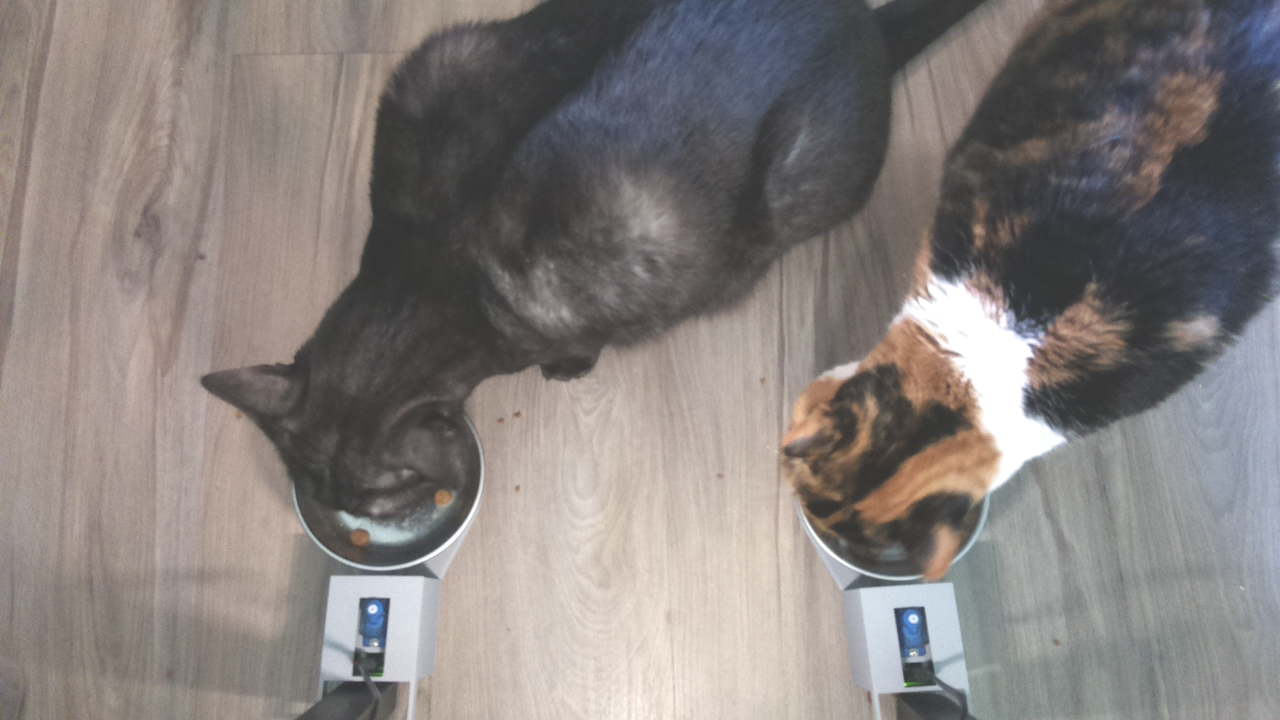bella_eating: (787, 304, 1058, 572)
saki_eating: (197, 296, 500, 577)
